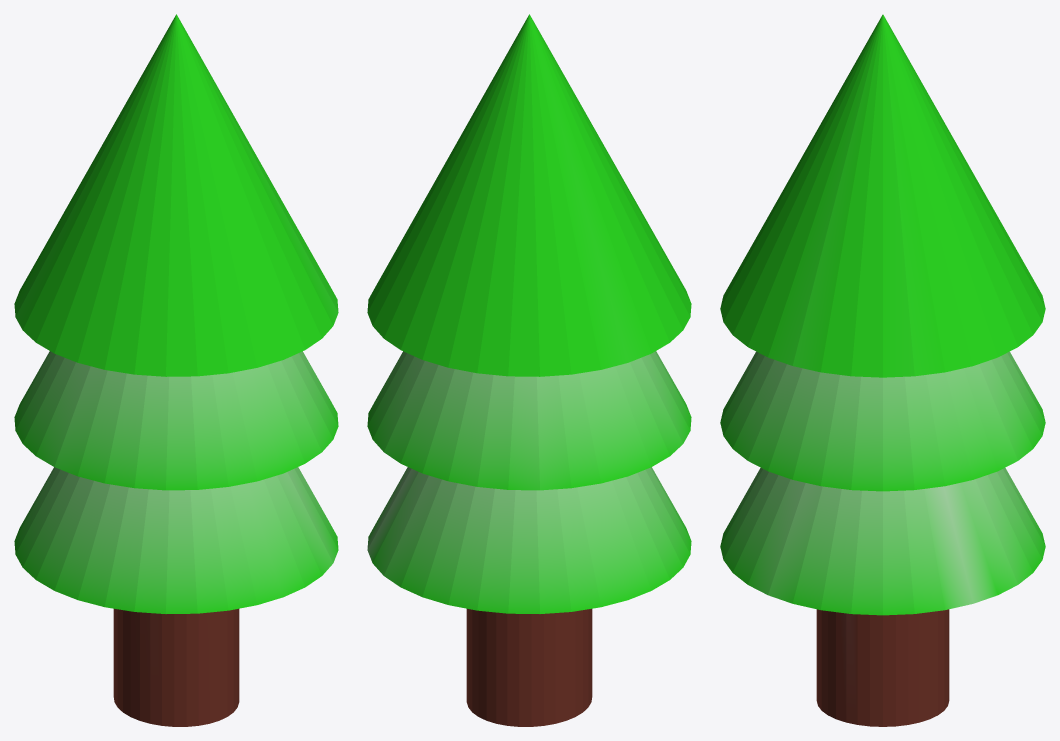
The model's file is shaderTree.fbx.
3 views of the same model, side by side, from view 1: azimuth 30°, elevation 25°; view 2: azimuth 150°, elevation 25°; view 3: azimuth 270°, elevation 25° (orthographic).
Parts seen in each view (by area): view 1: Cylinder; view 2: Cylinder; view 3: Cylinder.
Part boxes in pixels (<box>): Cylinder: <box>14,14,338,726</box>; Cylinder: <box>367,14,691,726</box>; Cylinder: <box>720,14,1045,726</box>.
Size of the model in its own units: 295 by 688 by 295.
